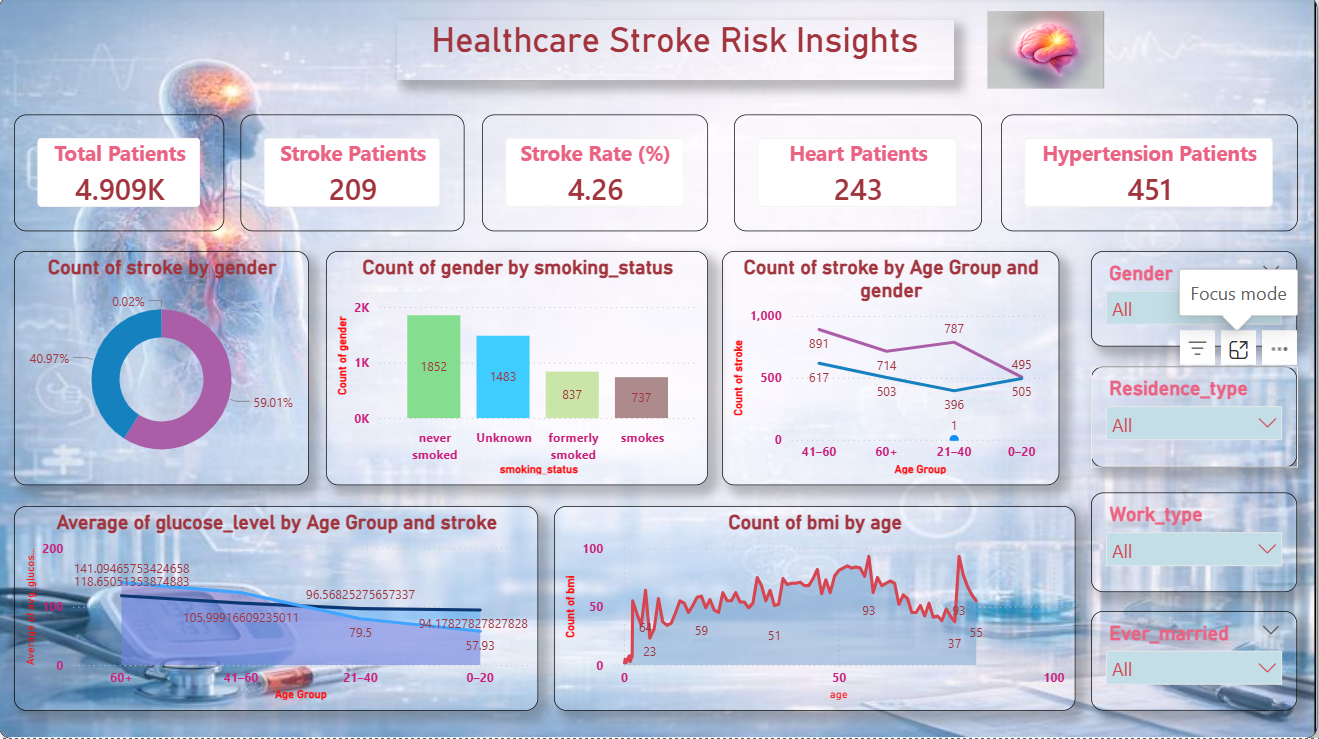

The page's visual inventory and layout, read from the dashboard file:
{"tool":"powerbi","page":{"name":"Page 1","canvas":[1280,720],"ordinal":0},"visuals":[{"type":"image","box":[0,0,1279.5,720.8],"z":0},{"type":"cardVisual","fields":{"Data":["healthcare-dataset-stroke-data.Total Patients"]},"box":[15.1,115.3,204.1,113.4],"z":1000},{"type":"shape","title":"Healthcare  Stroke Risk Insights","box":[385.5,22.7,540.5,58.6],"z":2000},{"type":"cardVisual","fields":{"Data":["healthcare-dataset-stroke-data.Stroke Patients"]},"box":[234.3,115.3,217.3,113.4],"z":3000},{"type":"image","box":[926,15.1,179.5,75.6],"z":4000},{"type":"cardVisual","fields":{"Data":["healthcare-dataset-stroke-data.Stroke Rate (%)"]},"box":[469.4,115.1,219.6,113.6],"z":5000},{"type":"cardVisual","fields":{"Data":["healthcare-dataset-stroke-data.Heart Disease Patients"]},"box":[713.2,115.1,240.8,113.6],"z":6000},{"type":"slicer","fields":{"Values":["healthcare-dataset-stroke-data.gender"]},"box":[1060.2,247.6,200.3,92.6],"z":7000},{"type":"slicer","fields":{"Values":["healthcare-dataset-stroke-data.Residence_type"]},"box":[1060.2,359.1,200.3,98.3],"z":8000},{"type":"slicer","fields":{"Values":["healthcare-dataset-stroke-data.work_type"]},"box":[1060,481.7,200,96.7],"z":9000},{"type":"cardVisual","fields":{"Data":["healthcare-dataset-stroke-data.Hypertension Patients"]},"box":[972.1,115.1,287.7,113.6],"z":10000},{"type":"donutChart","fields":{"Category":["healthcare-dataset-stroke-data.gender"],"Y":["CountNonNull(healthcare-dataset-stroke-data.stroke)"]},"box":[15.1,246.8,286.2,227.1],"z":11000},{"type":"columnChart","fields":{"Category":["healthcare-dataset-stroke-data.smoking_status"],"Y":["CountNonNull(healthcare-dataset-stroke-data.gender)"]},"box":[318,246.8,371,227.1],"z":12000},{"type":"lineChart","fields":{"Category":["healthcare-dataset-stroke-data.Age Group"],"Y":["CountNonNull(healthcare-dataset-stroke-data.stroke)"],"Series":["healthcare-dataset-stroke-data.gender"]},"box":[701.1,246.8,327.1,227.1],"z":13000},{"type":"stackedAreaChart","fields":{"Y":["CountNonNull(healthcare-dataset-stroke-data.bmi)"],"Category":["healthcare-dataset-stroke-data.age"]},"box":[539.1,495.1,505.7,198.4],"z":14000},{"type":"areaChart","title":"Average of glucose_level by Age Group and stroke","fields":{"Category":["healthcare-dataset-stroke-data.Age Group"],"Series":["healthcare-dataset-stroke-data.stroke"],"Y":["Avg(healthcare-dataset-stroke-data.avg_glucose_level)"]},"box":[15.1,495.1,508.8,198.4],"z":15000},{"type":"slicer","fields":{"Values":["healthcare-dataset-stroke-data.ever_married"]},"box":[1060,596.7,200,96.7],"z":16000}]}

Visuals, with their boxes in screenshot pixels (x1, y1, x2, y2), scaled from the page's 1280x720 canvas onto the 1319x739 screenshot:
image: bbox=[0, 0, 1318, 738]
cardVisual - healthcare-dataset-stroke-data.Total Patients: bbox=[16, 118, 226, 235]
"Healthcare  Stroke Risk Insights" shape: bbox=[397, 23, 954, 83]
cardVisual - healthcare-dataset-stroke-data.Stroke Patients: bbox=[241, 118, 465, 235]
image: bbox=[954, 15, 1139, 93]
cardVisual - healthcare-dataset-stroke-data.Stroke Rate (%): bbox=[484, 118, 710, 235]
cardVisual - healthcare-dataset-stroke-data.Heart Disease Patients: bbox=[735, 118, 983, 235]
slicer - healthcare-dataset-stroke-data.gender: bbox=[1093, 254, 1299, 349]
slicer - healthcare-dataset-stroke-data.Residence_type: bbox=[1093, 369, 1299, 469]
slicer - healthcare-dataset-stroke-data.work_type: bbox=[1092, 494, 1298, 594]
cardVisual - healthcare-dataset-stroke-data.Hypertension Patients: bbox=[1002, 118, 1298, 235]
donutChart - healthcare-dataset-stroke-data.gender x CountNonNull(healthcare-dataset-stroke-data.stroke): bbox=[16, 253, 310, 486]
columnChart - healthcare-dataset-stroke-data.smoking_status x CountNonNull(healthcare-dataset-stroke-data.gender): bbox=[328, 253, 710, 486]
lineChart - healthcare-dataset-stroke-data.Age Group x CountNonNull(healthcare-dataset-stroke-data.stroke): bbox=[722, 253, 1060, 486]
stackedAreaChart - CountNonNull(healthcare-dataset-stroke-data.bmi) x healthcare-dataset-stroke-data.age: bbox=[556, 508, 1077, 712]
"Average of glucose_level by Age Group and stroke" areaChart: bbox=[16, 508, 540, 712]
slicer - healthcare-dataset-stroke-data.ever_married: bbox=[1092, 612, 1298, 712]
